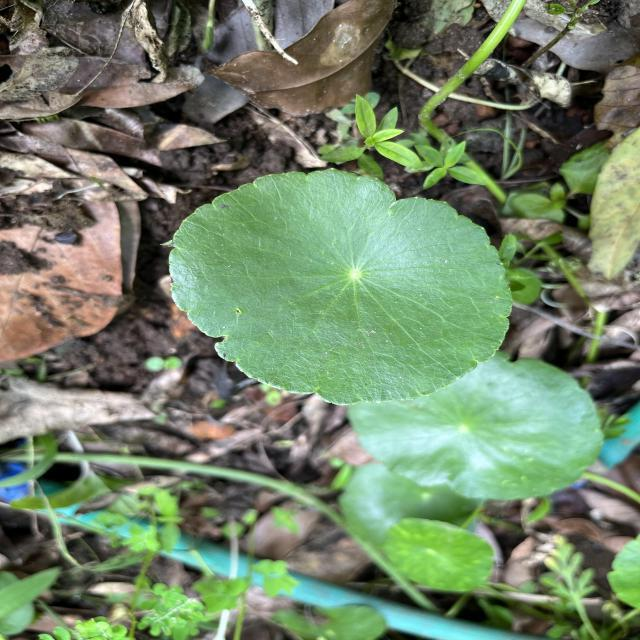Bacopa monnieri: (166, 164, 516, 410)
